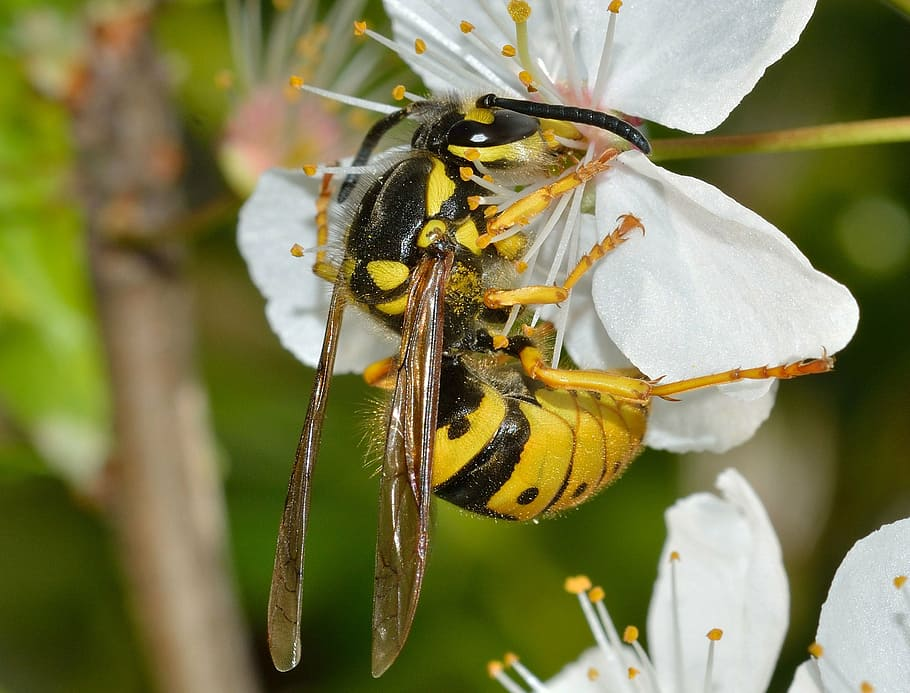chax: (241, 63, 716, 679)
